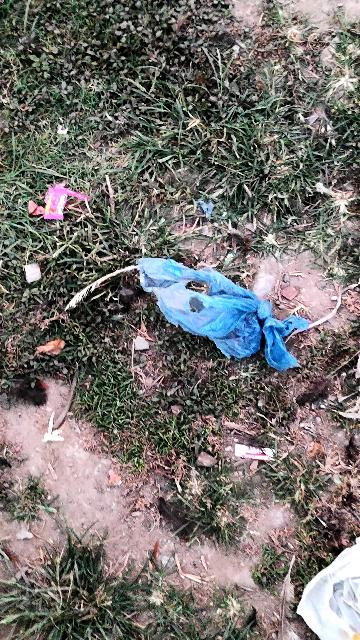polythene: (116, 236, 319, 381)
